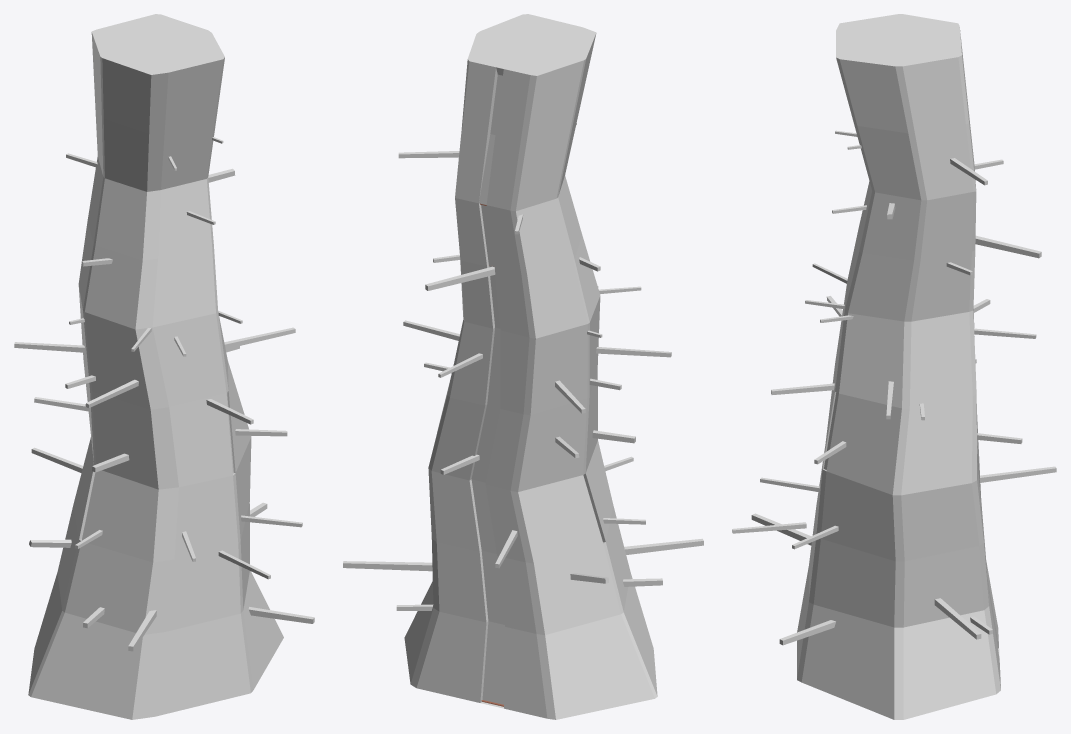
The model's file is resource__surrounding__tree_trunk_1_spiky.fbx.
3 renders of one model, left to right at view 1: azimuth 30°, elevation 25°; view 2: azimuth 150°, elevation 25°; view 3: azimuth 270°, elevation 25°, orthographic.
Visible parts, largest first — view 1: Map_Surrounding_TreeTrunk_1_with-spikes; view 2: Map_Surrounding_TreeTrunk_1_with-spikes; view 3: Map_Surrounding_TreeTrunk_1_with-spikes.
Part boxes in pixels (x1,y1,x2,y2): Map_Surrounding_TreeTrunk_1_with-spikes: (14,14,314,719); Map_Surrounding_TreeTrunk_1_with-spikes: (343,14,703,719); Map_Surrounding_TreeTrunk_1_with-spikes: (732,14,1056,719).
Size of the model in its own units: 286 by 619 by 293.
